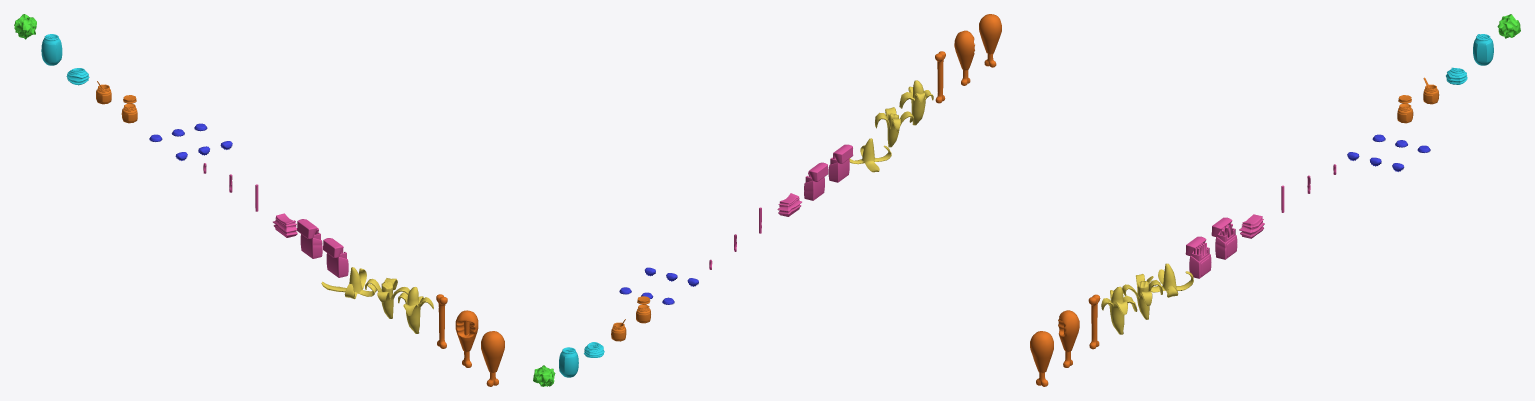
File: SkylarProps_Low.fbx
3 views of the same model, side by side, from view 1: azimuth 30°, elevation 25°; view 2: azimuth 150°, elevation 25°; view 3: azimuth 330°, elevation 25° (orthographic). The views are drawn at different scales.
Visible parts, largest first — view 1: ChickenLeg, EatenChickenLeg, Circle.012, Circle.016, Circle.001, Circle.004, Circle.003, Circle.014, Icosphere, Circle.017; view 2: ChickenLeg, EatenChickenLeg, Circle.001, Circle.012, Circle.016, Circle.003, Circle.004, Circle.014; view 3: ChickenLeg, Circle.012, Circle.001, EatenChickenLeg, Circle.016, Circle.003, Circle.004, Circle.014, Circle.017, Bone, Icosphere.
Part boxes in pixels (left/top/right/bottom): ChickenLeg: left=481, top=331, right=504, bottom=386; EatenChickenLeg: left=455, top=310, right=478, bottom=367; Circle.012: left=323, top=238, right=348, bottom=277; Circle.016: left=297, top=219, right=322, bottom=258; Circle.001: left=398, top=287, right=433, bottom=333; Circle.004: left=321, top=267, right=376, bottom=299; Circle.003: left=365, top=278, right=409, bottom=318; Circle.014: left=41, top=34, right=62, bottom=65; Icosphere: left=14, top=14, right=36, bottom=39; Circle.017: left=273, top=213, right=297, bottom=237; ChickenLeg: left=979, top=14, right=1001, bottom=67; EatenChickenLeg: left=954, top=30, right=974, bottom=85; Circle.001: left=899, top=80, right=933, bottom=125; Circle.012: left=828, top=144, right=853, bottom=182; Circle.016: left=804, top=162, right=828, bottom=200; Circle.003: left=875, top=107, right=913, bottom=147; Circle.004: left=849, top=138, right=891, bottom=172; Circle.014: left=559, top=347, right=578, bottom=377; ChickenLeg: left=1030, top=331, right=1053, bottom=386; Circle.012: left=1185, top=236, right=1211, bottom=278; Circle.001: left=1101, top=286, right=1137, bottom=334; EatenChickenLeg: left=1058, top=310, right=1079, bottom=367; Circle.016: left=1211, top=217, right=1237, bottom=259; Circle.003: left=1122, top=274, right=1162, bottom=319; Circle.004: left=1146, top=263, right=1193, bottom=297; Circle.014: left=1473, top=34, right=1493, bottom=65; Circle.017: left=1239, top=214, right=1264, bottom=238; Bone: left=1088, top=294, right=1100, bottom=349; Icosphere: left=1497, top=14, right=1520, bottom=38.
Bounding box in the file's own units: 3458 × 2765 × 36890.
